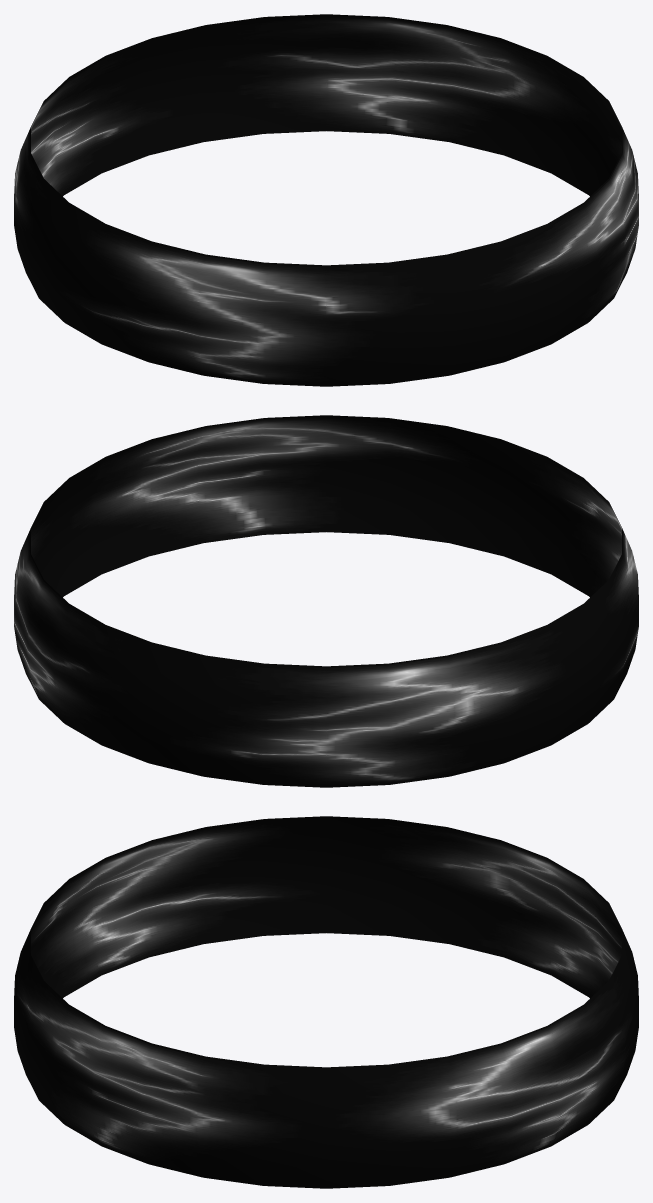
File: 0050_HT_FX_MegaLieKongZuo_01.glb
3 renders of one model, top to bottom at view 1: azimuth 30°, elevation 25°; view 2: azimuth 150°, elevation 25°; view 3: azimuth 270°, elevation 25°, orthographic.
Size of the model in its own units: 2.2 by 0.4604 by 2.19.
Materials: 1 (1 with a texture image).
